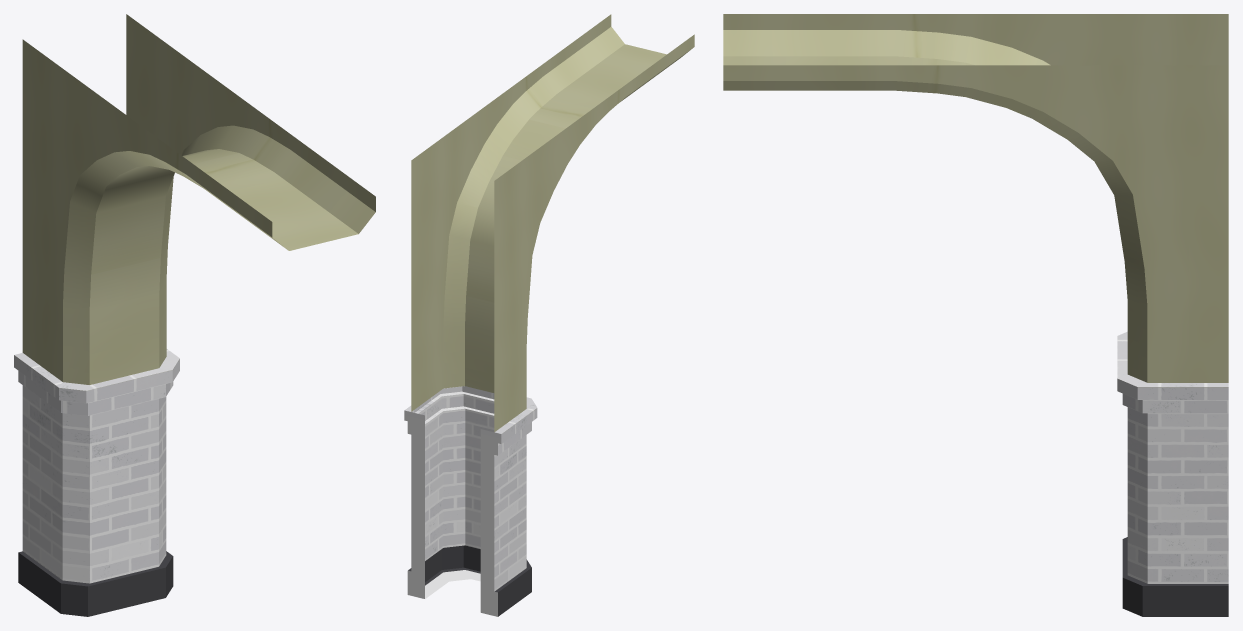
The model's file is SM_Buildings_ArchedColumnHalf_2x3_01.fbx.
3 views of the same model, side by side, from view 1: azimuth 30°, elevation 25°; view 2: azimuth 150°, elevation 25°; view 3: azimuth 270°, elevation 25° (orthographic). The views are drawn at different scales.
Visible parts, largest first — view 1: SM_Buildings_ArchedColumnHalf_2x3_01; view 2: SM_Buildings_ArchedColumnHalf_2x3_01; view 3: SM_Buildings_ArchedColumnHalf_2x3_01.
Part boxes in pixels (left/top/right/bottom): SM_Buildings_ArchedColumnHalf_2x3_01: left=14, top=14, right=375, bottom=616; SM_Buildings_ArchedColumnHalf_2x3_01: left=404, top=14, right=694, bottom=616; SM_Buildings_ArchedColumnHalf_2x3_01: left=723, top=14, right=1228, bottom=616.
Size of the model in its own units: 70 by 300 by 250.
Materials: 1 (1 with a texture image).
